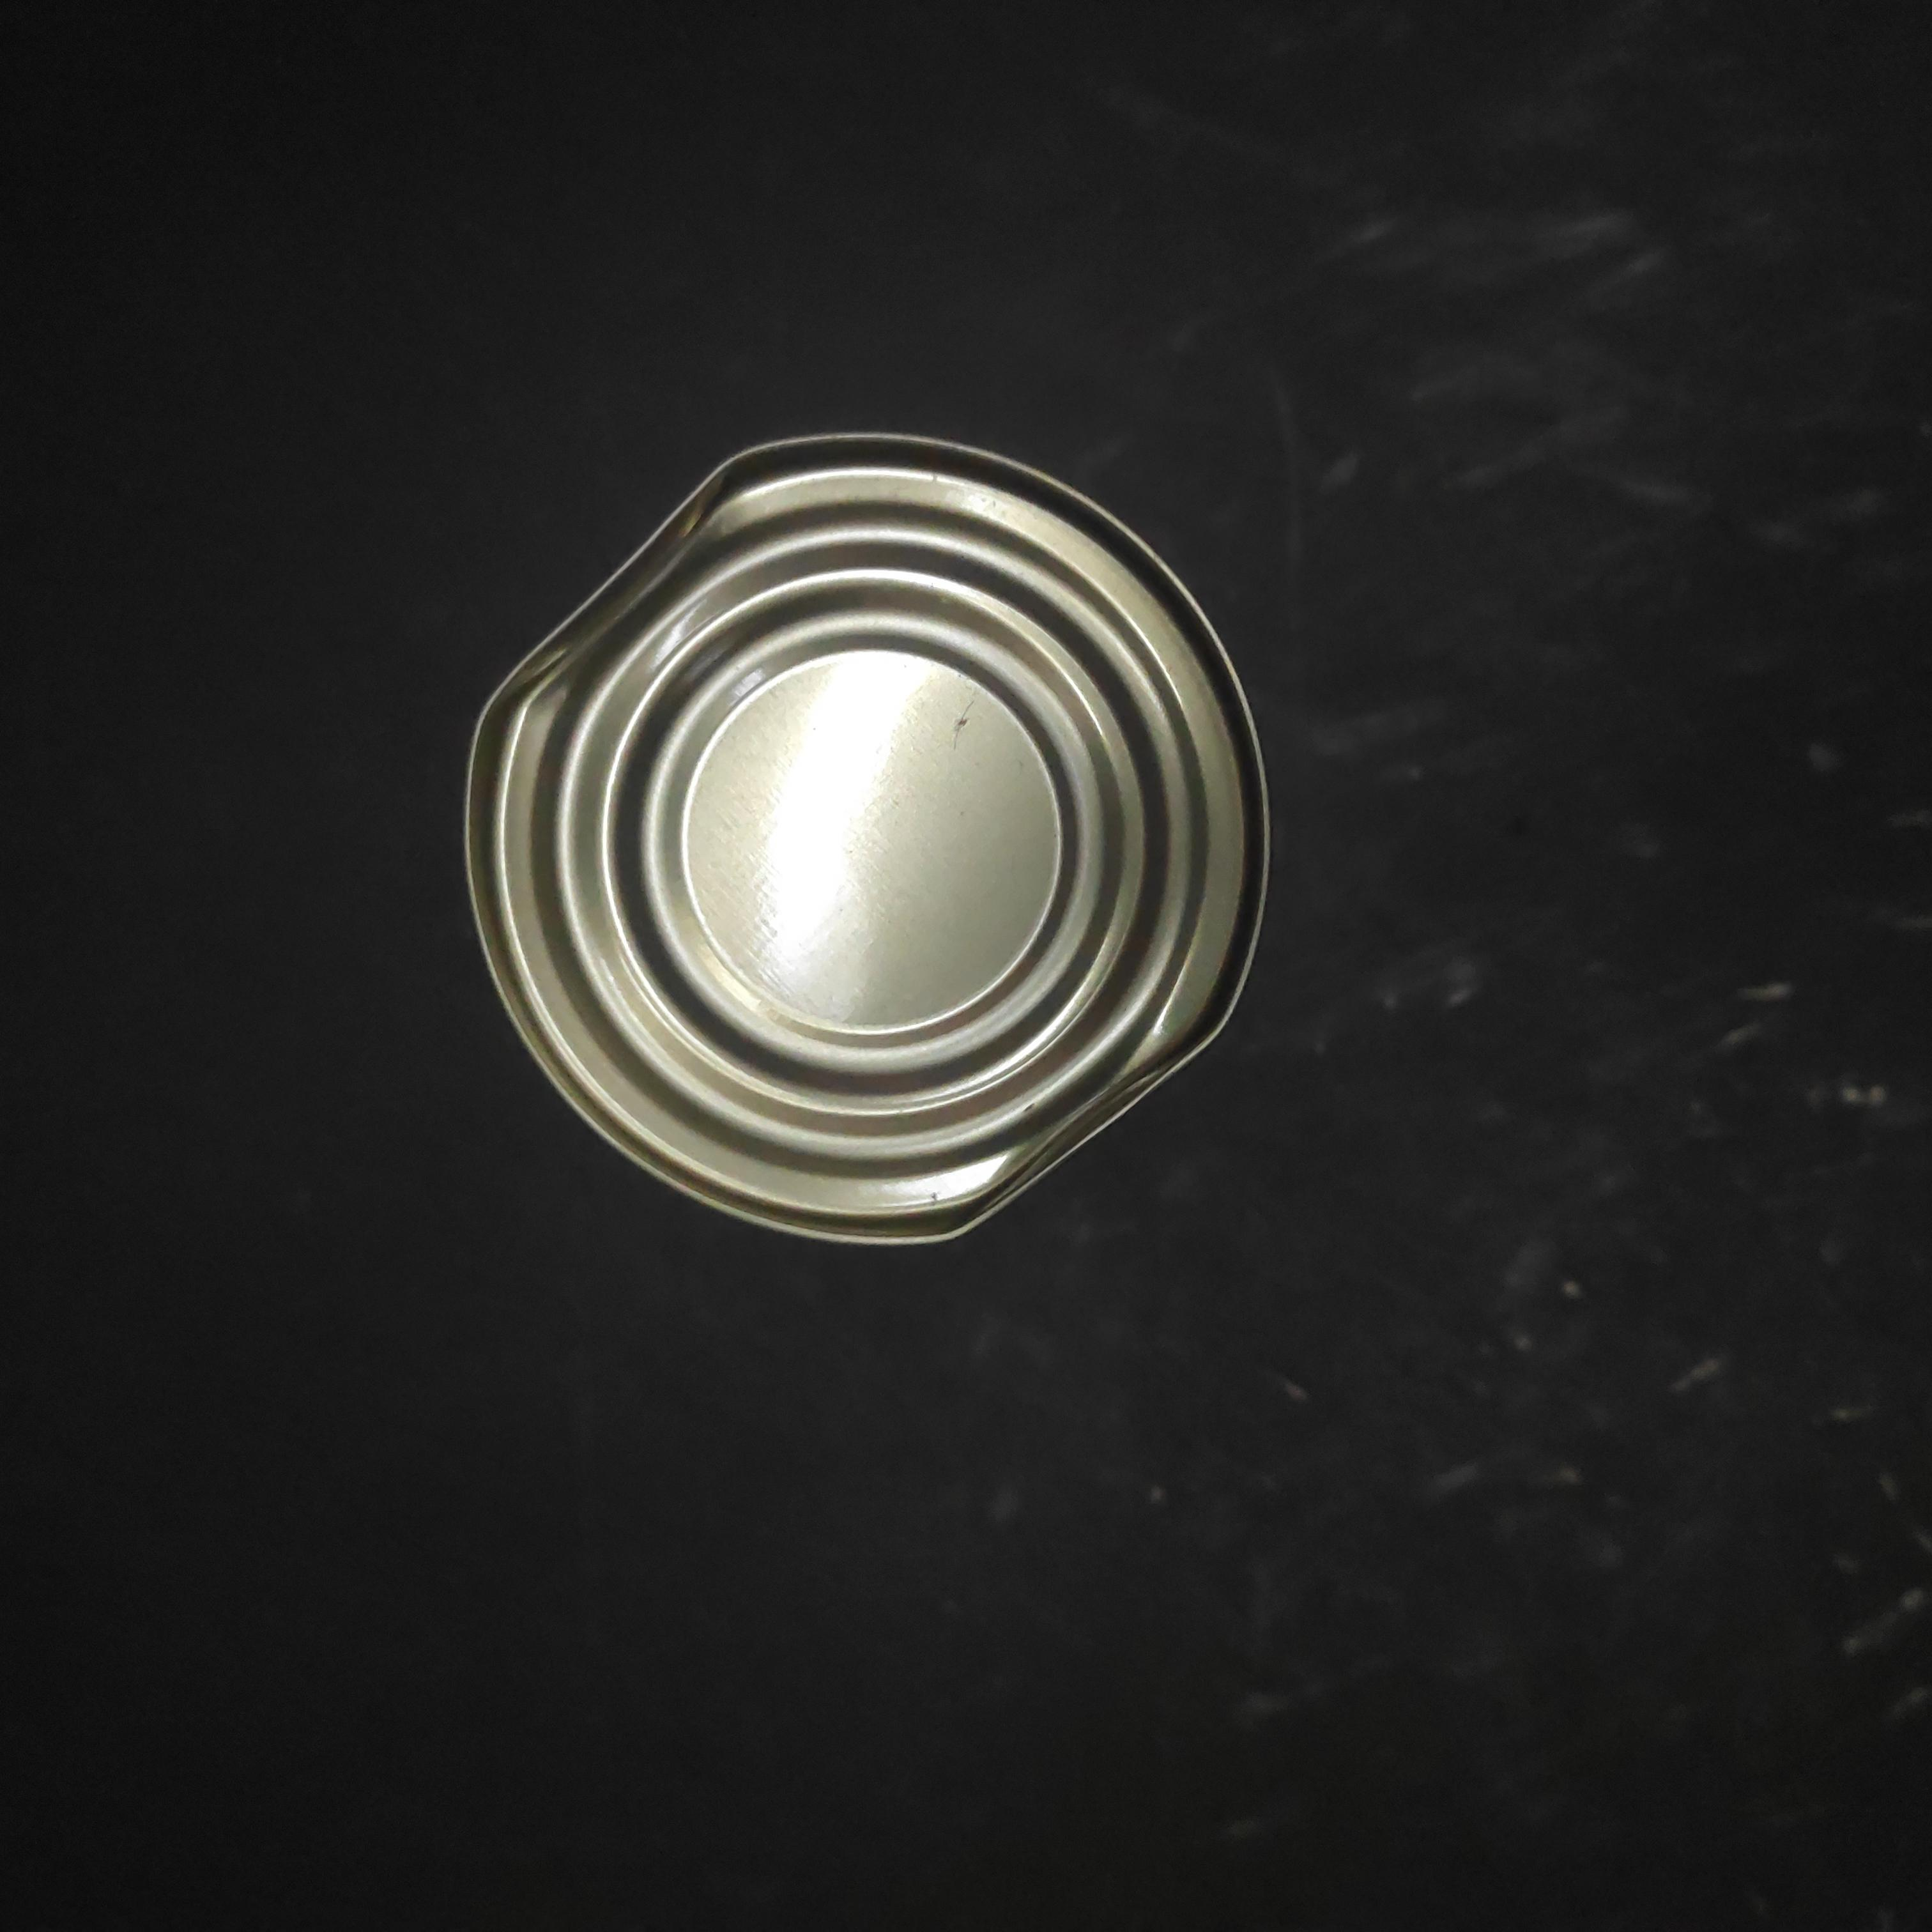Minor Defect: (653, 665, 1486, 1518)
